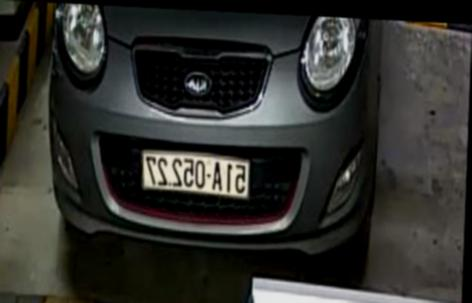License_Plate: (139, 150, 256, 202)
